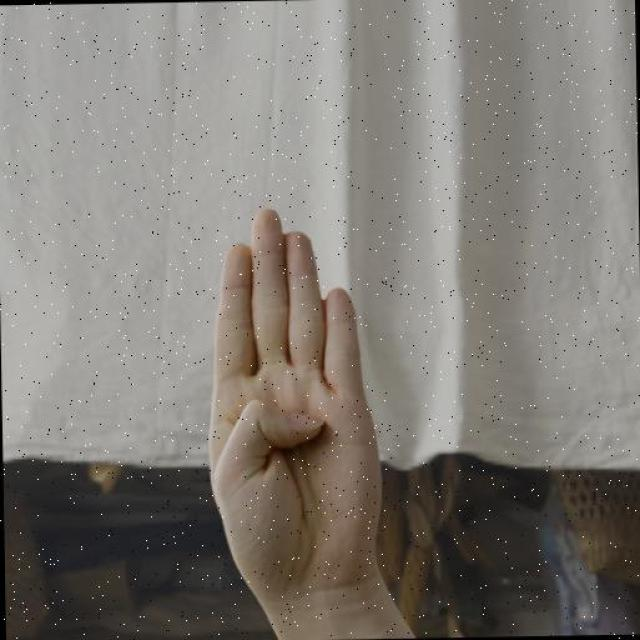B: (181, 195, 395, 640)
